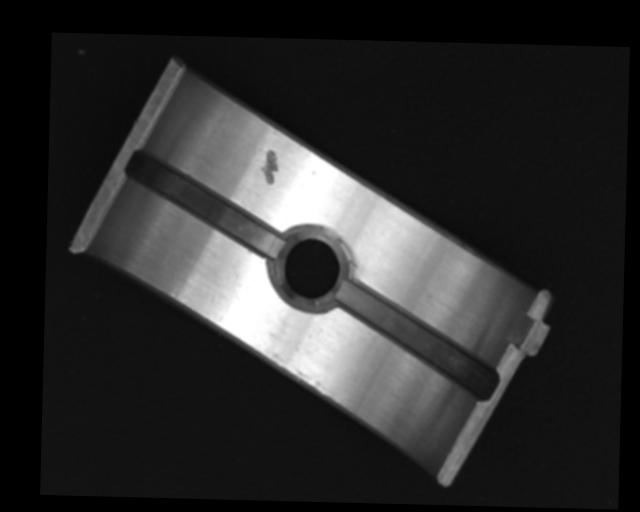bruise: (259, 147, 280, 185)
gap: (336, 278, 498, 399), (124, 148, 284, 257)
hole: (275, 222, 347, 309)
